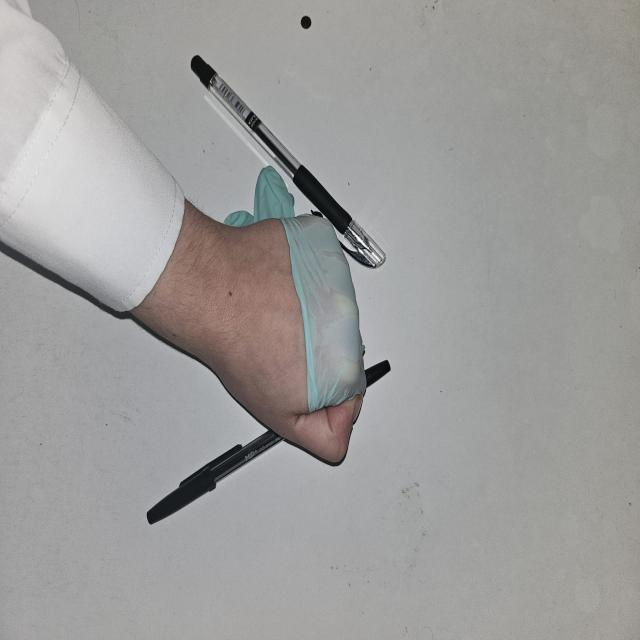glove_partial: (222, 165, 369, 466)
